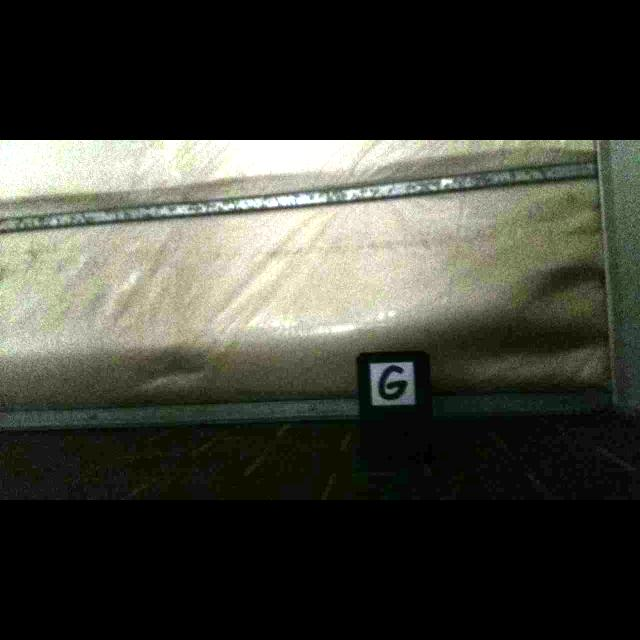G: (379, 365, 408, 400)
